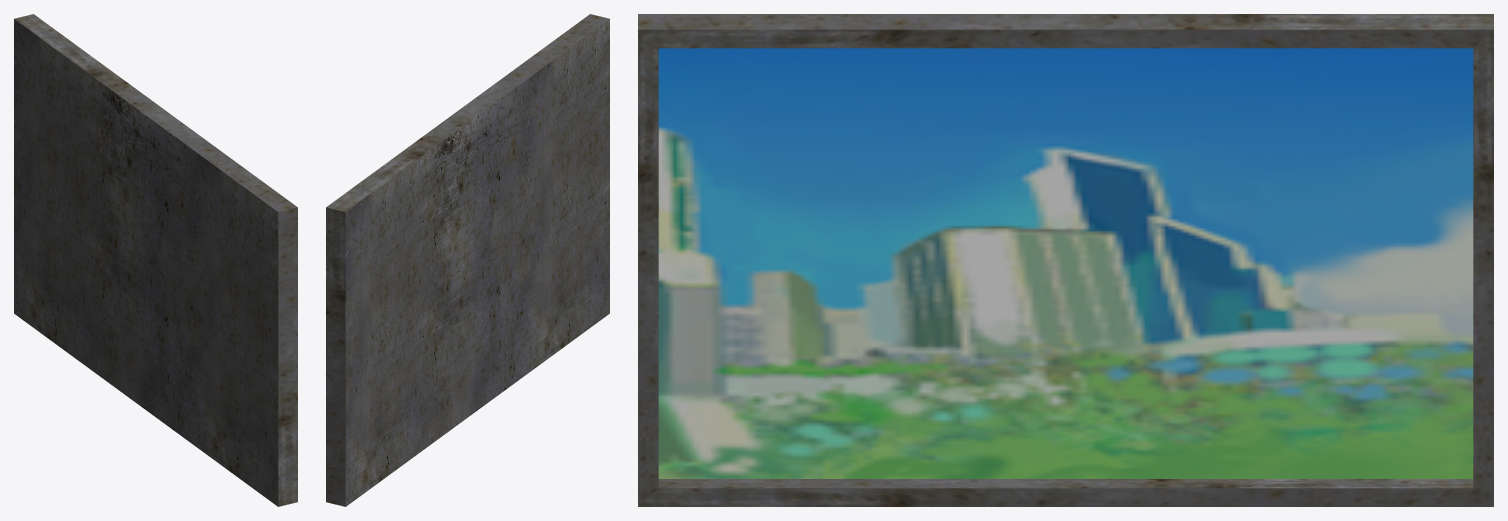
File: M_Home_Garden_Painting_07.fbx
3 renders of one model, left to right at view 1: azimuth 30°, elevation 25°; view 2: azimuth 150°, elevation 25°; view 3: azimuth 270°, elevation 25°, orthographic. The views are drawn at different scales.
Visible parts, largest first — view 1: M_Home_Garden_Painting_07; view 2: M_Home_Garden_Painting_07; view 3: M_Home_Garden_Painting_07.
Boxes of the visible parts, <box> form: M_Home_Garden_Painting_07: <box>14,14,297,506</box>; M_Home_Garden_Painting_07: <box>326,14,609,506</box>; M_Home_Garden_Painting_07: <box>638,14,1493,506</box>.
Bounding box in the file's own units: 5.98 × 85.61 × 139.
